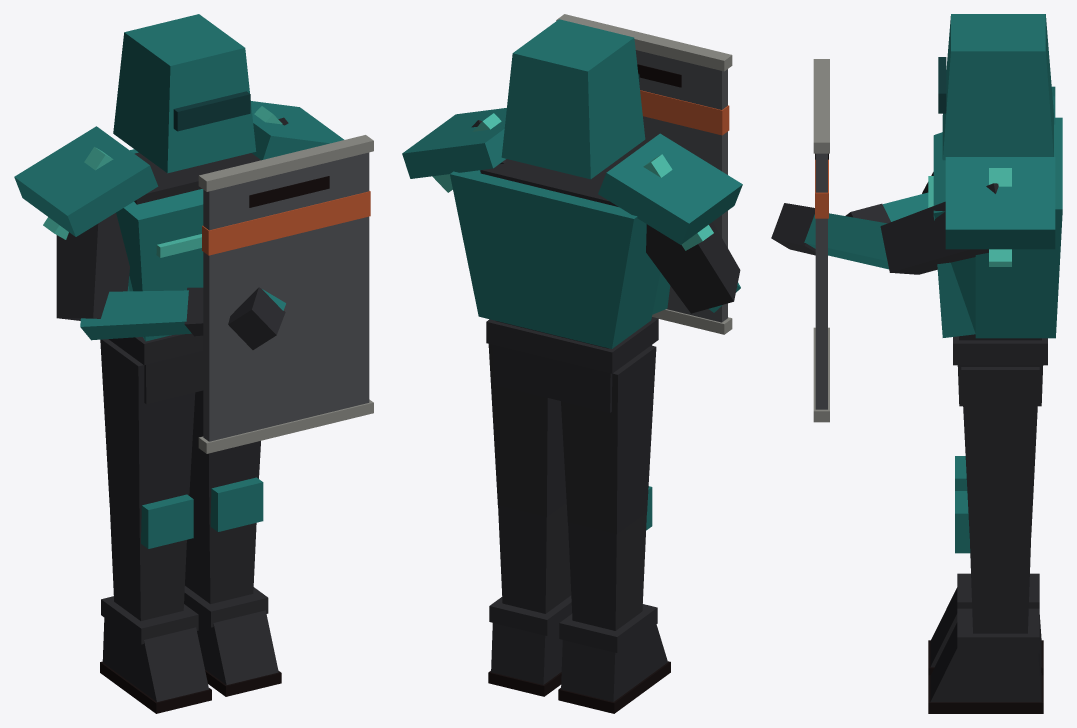
File: vanguard.glb
3 renders of one model, left to right at view 1: azimuth 30°, elevation 25°; view 2: azimuth 150°, elevation 25°; view 3: azimuth 270°, elevation 25°, orthographic. The views are drawn at different scales.
Visible parts, largest first — view 1: shield_l, head, leg_r_lower, leg_l_lower, torso, leg_r, pauldron_r, arm_r, arm_r_lower, pauldron_l, leg_l, arm_l_lower; view 2: torso, head, leg_r_lower, leg_l_lower, leg_r, shield_l, pauldron_r, leg_l, pauldron_l, arm_r; view 3: leg_l_lower, head, torso, leg_l, pauldron_l, shield_l, arm_l_lower, arm_l, leg_r_lower, arm_r_lower.
Boxes of the visible parts, left/top/right/bottom form: shield_l: left=198, top=135, right=373, bottom=453; head: left=113, top=14, right=256, bottom=173; leg_r_lower: left=100, top=494, right=211, bottom=713; leg_l_lower: left=184, top=477, right=281, bottom=696; torso: left=108, top=149, right=260, bottom=404; leg_r: left=100, top=339, right=195, bottom=524; pauldron_r: left=14, top=126, right=158, bottom=239; arm_r: left=56, top=213, right=129, bottom=320; arm_r_lower: left=80, top=287, right=203, bottom=340; pauldron_l: left=251, top=101, right=344, bottom=160; leg_l: left=189, top=390, right=260, bottom=507; arm_l_lower: left=228, top=287, right=285, bottom=349; torso: left=450, top=159, right=670, bottom=412; head: left=501, top=19, right=645, bottom=179; leg_r_lower: left=558, top=486, right=670, bottom=713; leg_l_lower: left=488, top=503, right=572, bottom=696; leg_r: left=561, top=345, right=656, bottom=534; shield_l: left=556, top=14, right=732, bottom=334; pauldron_r: left=598, top=133, right=742, bottom=250; leg_l: left=488, top=344, right=566, bottom=517; pauldron_l: left=402, top=108, right=506, bottom=192; arm_r: left=646, top=222, right=740, bottom=313; leg_l_lower: left=928, top=491, right=1043, bottom=713; head: left=938, top=14, right=1053, bottom=160; torso: left=928, top=117, right=1062, bottom=406; leg_l: left=961, top=367, right=1039, bottom=534; pauldron_l: left=945, top=157, right=1055, bottom=266; shield_l: left=813, top=59, right=829, bottom=422; arm_l_lower: left=771, top=203, right=888, bottom=269; arm_l: left=880, top=183, right=998, bottom=274; leg_r_lower: left=928, top=456, right=1043, bottom=675; arm_r_lower: left=845, top=192, right=928, bottom=223.
Bounding box in the file's own units: 0.8732 × 1.84 × 0.7498.
